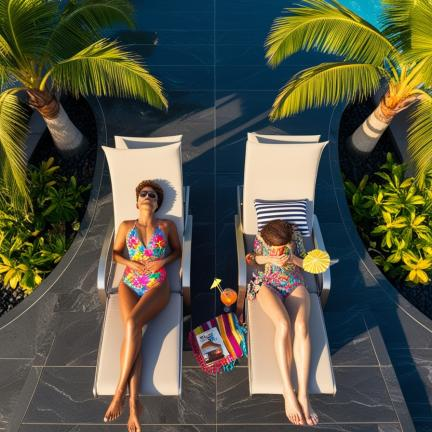guest on chair: (235, 133, 336, 424), (94, 142, 192, 432)
